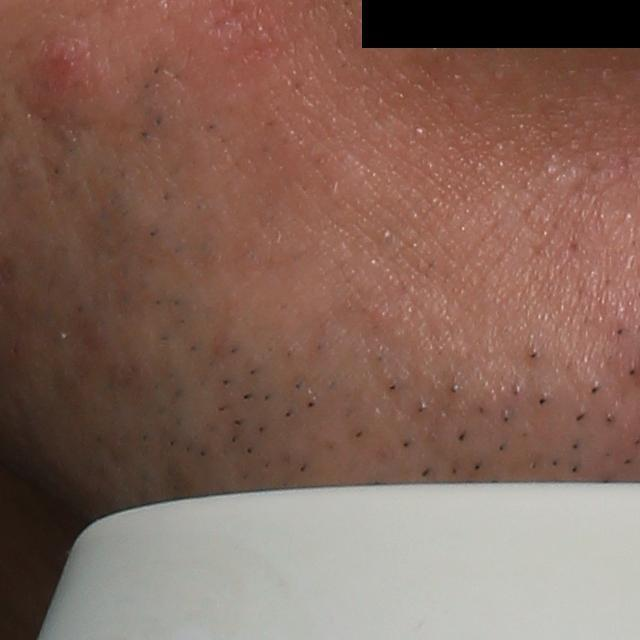papule: (37, 33, 105, 112)
